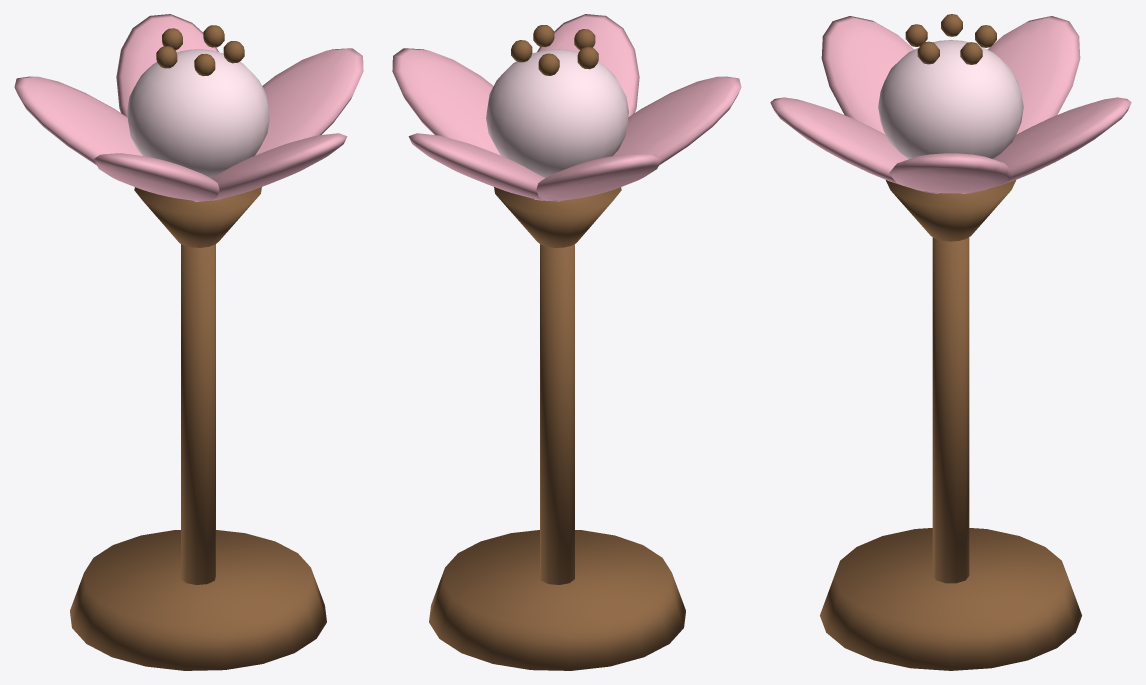
Rendered from cherry-lamp.glb.
The picture shows the model from 3 angles, left to right: view 1: azimuth 30°, elevation 25°; view 2: azimuth 150°, elevation 25°; view 3: azimuth 270°, elevation 25°; orthographic projection.
Visible parts, largest first — view 1: lamp; view 2: lamp; view 3: lamp.
Boxes of the visible parts, <box> form: lamp: <box>14,14,363,670</box>; lamp: <box>392,14,741,670</box>; lamp: <box>770,14,1131,670</box>.
Bounding box in the file's own units: 0.4757 × 0.886 × 0.4959.
